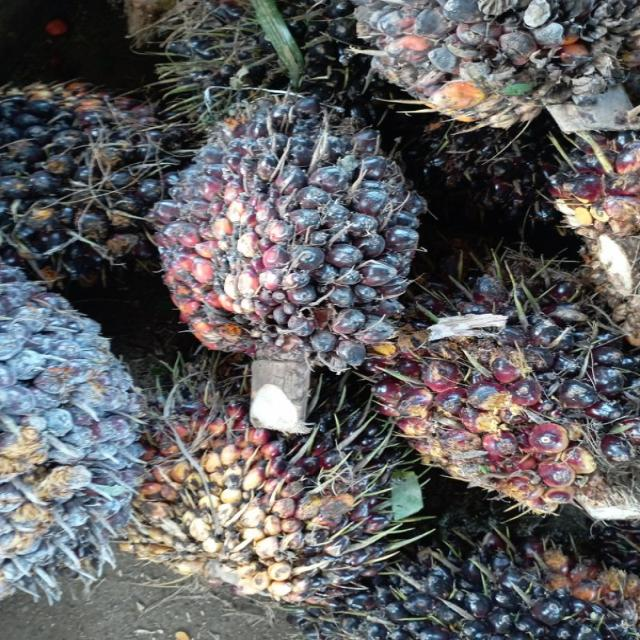fraksi 00: (157, 88, 421, 358), (385, 244, 640, 508), (1, 67, 186, 270)
